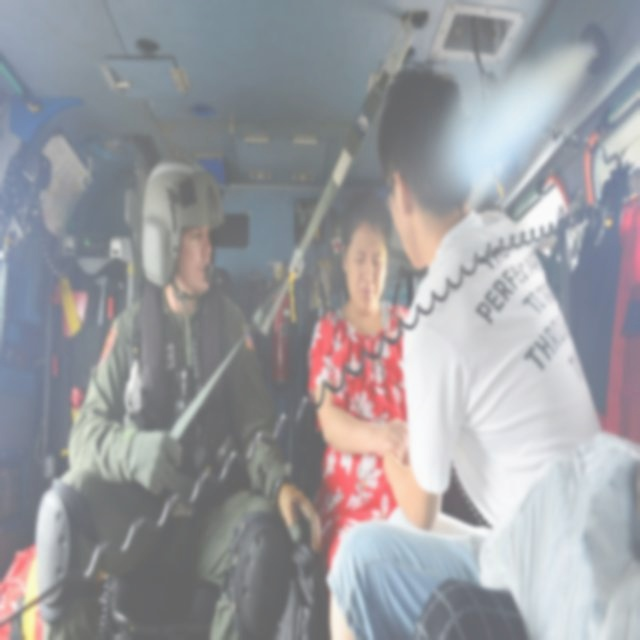pessoa: (324, 55, 606, 640), (34, 153, 318, 640), (306, 185, 412, 572)
